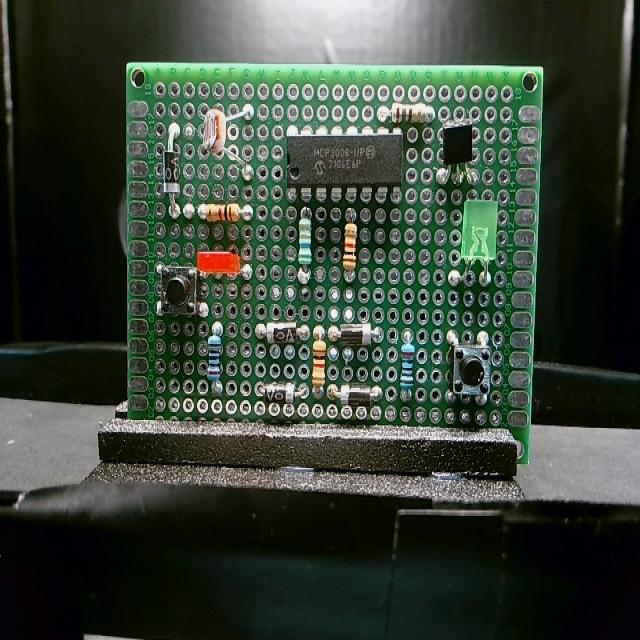IC: (286, 127, 404, 205)
cds: (201, 104, 235, 158)
diode: (162, 139, 182, 205), (338, 380, 377, 410), (261, 380, 299, 408), (338, 322, 378, 348), (263, 320, 301, 347)
led: (460, 198, 500, 270), (196, 250, 241, 278)
resistor: (387, 100, 434, 125), (205, 332, 224, 389), (398, 339, 416, 396), (297, 214, 313, 276), (311, 334, 327, 396), (198, 203, 246, 223), (342, 219, 358, 275)
switch: (448, 340, 492, 399), (159, 263, 199, 317)
transistor: (439, 120, 475, 176)
